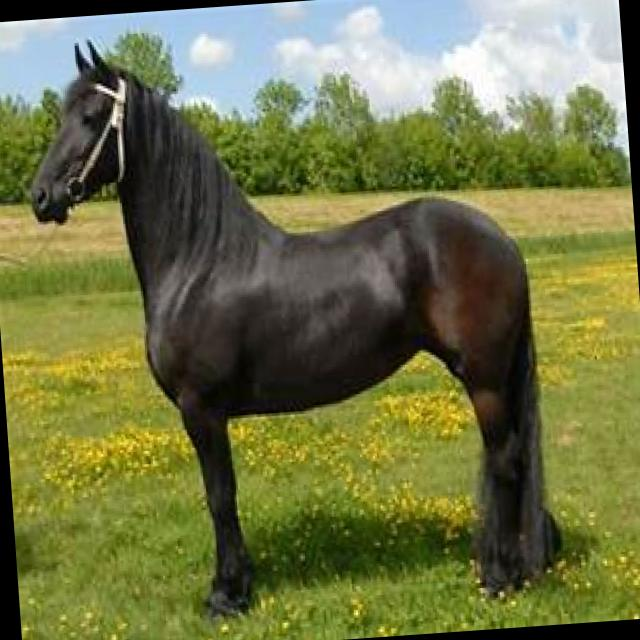animal: (21, 6, 568, 633)
